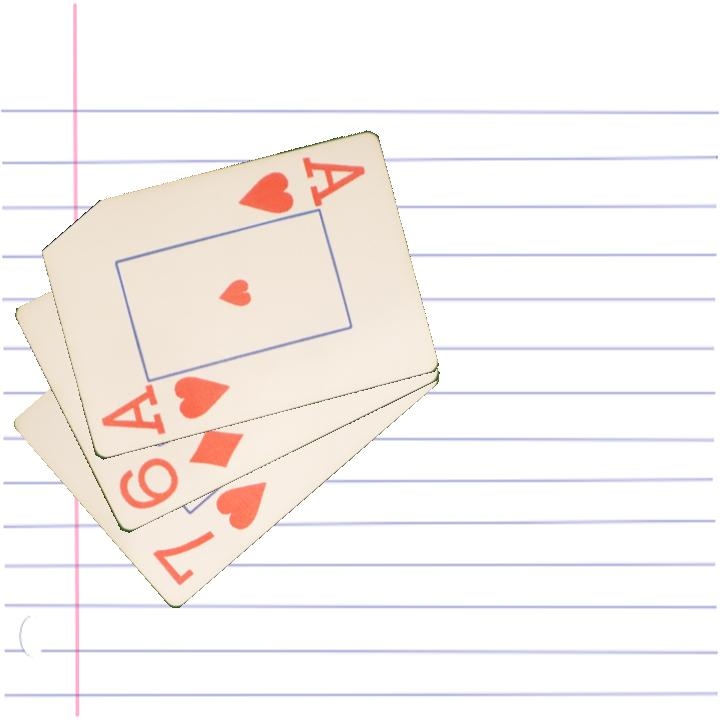6d: (115, 425, 247, 513)
7h: (149, 478, 270, 590)
Ah: (97, 373, 233, 438), (234, 153, 368, 218)
